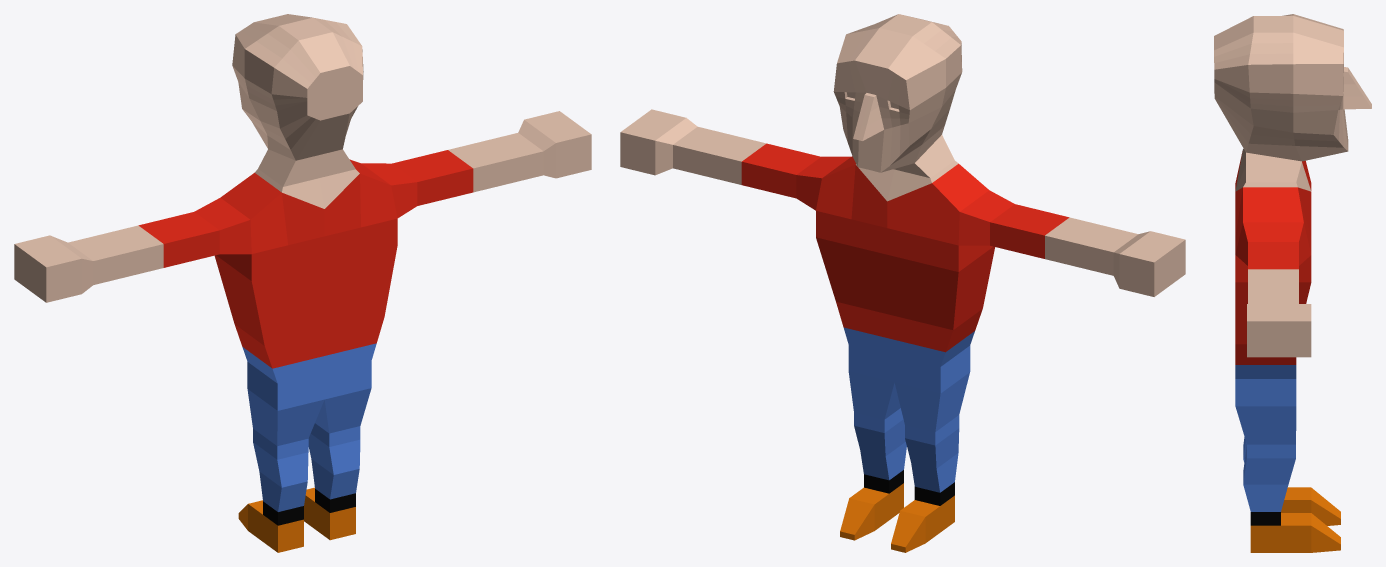
Rendered from blankblocko.fbx.
3 renders of one model, left to right at view 1: azimuth 30°, elevation 25°; view 2: azimuth 150°, elevation 25°; view 3: azimuth 270°, elevation 25°, orthographic. The views are drawn at different scales.
Parts seen in each view (by area): view 1: blockman; view 2: blockman; view 3: blockman.
Boxes of the visible parts, x1,y1,x2,y2 form: blockman: (14, 14, 591, 552); blockman: (620, 14, 1185, 552); blockman: (1214, 14, 1371, 552).
Size of the model in its own units: 420 by 373 by 104.
